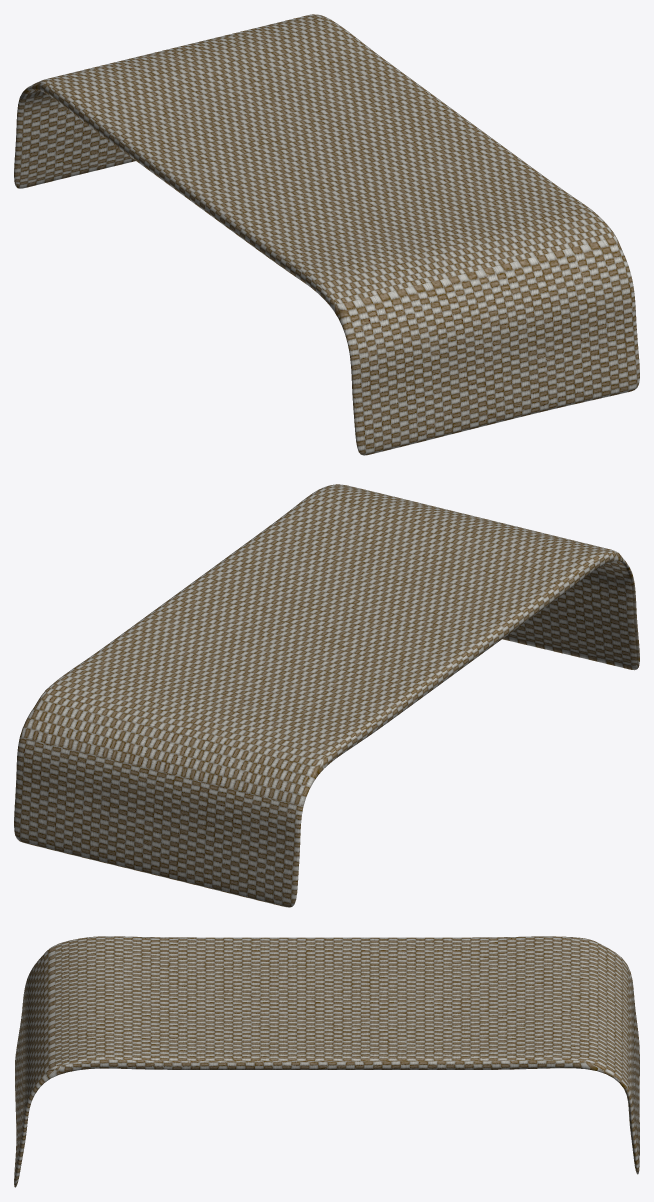
File: Frasada.fbx
3 views of the same model, one above another, from view 1: azimuth 30°, elevation 25°; view 2: azimuth 150°, elevation 25°; view 3: azimuth 270°, elevation 25° (orthographic). The views are drawn at different scales.
Visible parts, largest first — view 1: Plane.004; view 2: Plane.004; view 3: Plane.004.
Part boxes in pixels (box(x1,y1,x2,y2)): Plane.004: box(14, 14, 639, 455); Plane.004: box(14, 484, 639, 907); Plane.004: box(14, 936, 639, 1187).
Size of the model in its own units: 224 by 110 by 473.
1 material, 1 textured.
